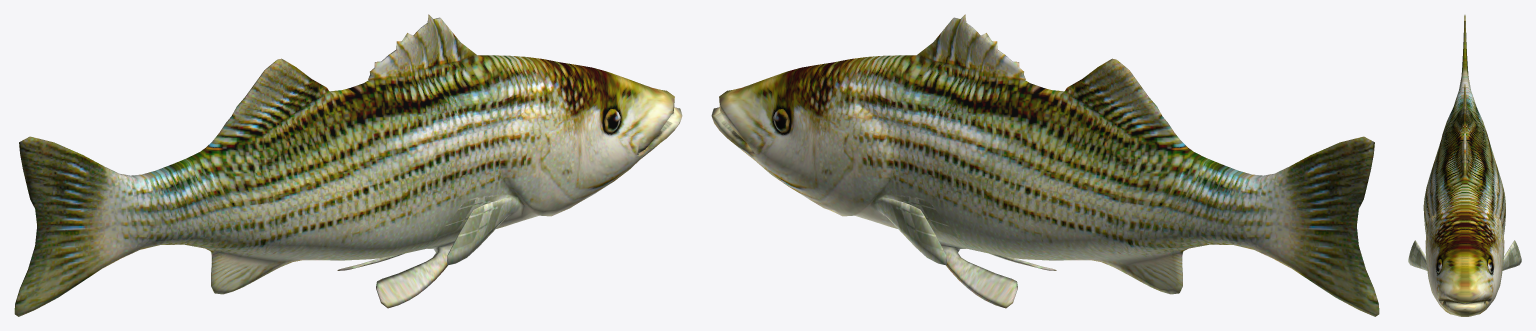
File: stripedbass.glb
The picture shows the model from 3 angles, left to right: view 1: azimuth 30°, elevation 25°; view 2: azimuth 150°, elevation 25°; view 3: azimuth 270°, elevation 25°; orthographic projection. The views are drawn at different scales.
Visible parts, largest first — view 1: striped bass; view 2: striped bass; view 3: striped bass.
Part boxes in pixels (x1,y1,x2,y2): striped bass: (14, 14, 682, 316); striped bass: (711, 14, 1379, 316); striped bass: (1408, 15, 1521, 316).
Size of the model in its own units: 5.42 by 2.02 by 1.22.
2 materials, 2 textured.
